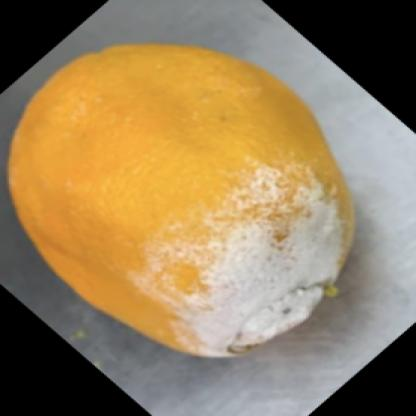rotten: (10, 45, 355, 357)
